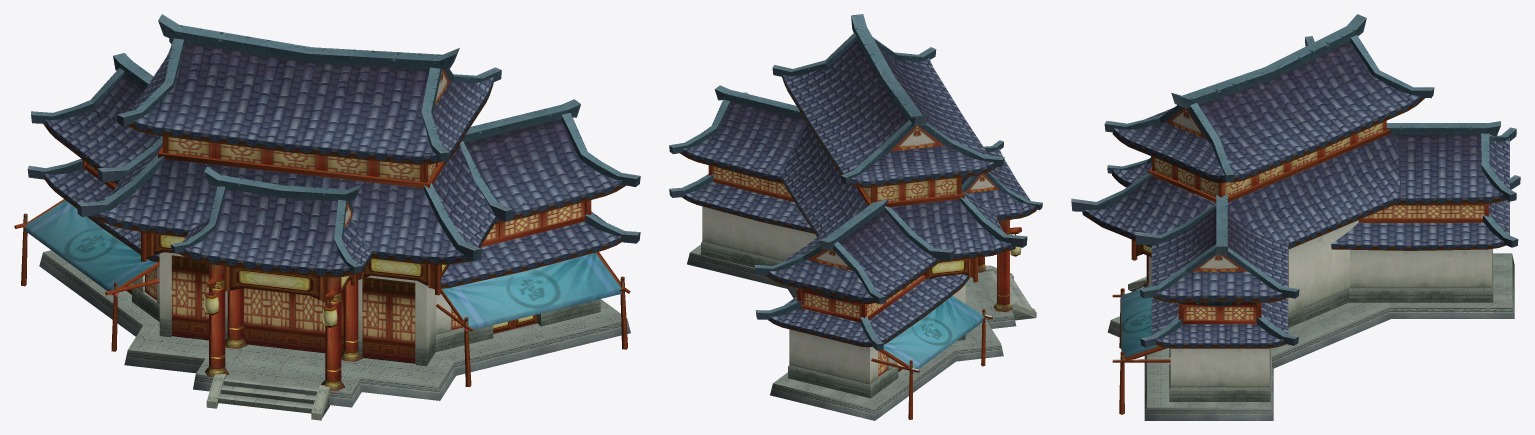
Rendered from szc_building_dangpu20.FBX.
The picture shows the model from 3 angles, left to right: view 1: azimuth 30°, elevation 25°; view 2: azimuth 150°, elevation 25°; view 3: azimuth 270°, elevation 25°; orthographic projection. The views are drawn at different scales.
Visible parts, largest first — view 1: szc_building_dangpu20; view 2: szc_building_dangpu20; view 3: szc_building_dangpu20.
Boxes of the visible parts, box(x1,y1,x2,y2) form: szc_building_dangpu20: box(14, 14, 640, 420); szc_building_dangpu20: box(669, 14, 1042, 420); szc_building_dangpu20: box(1071, 14, 1520, 420).
Size of the model in its own units: 819 by 528 by 813.
